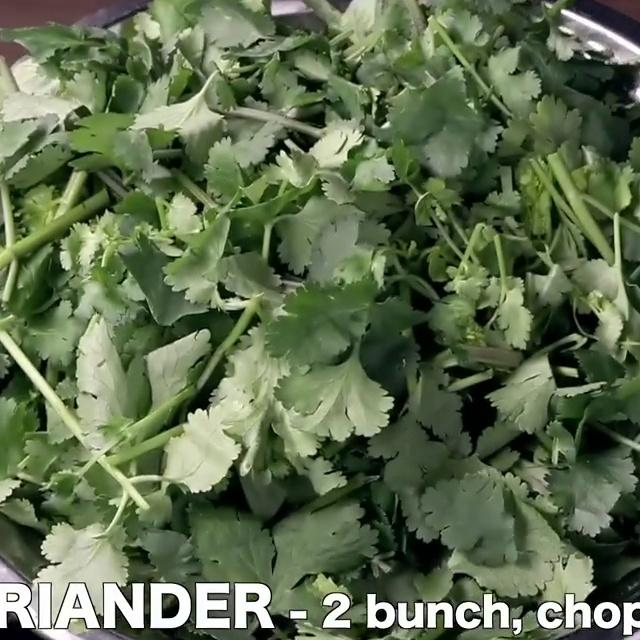cilantro: (0, 17, 640, 572)
